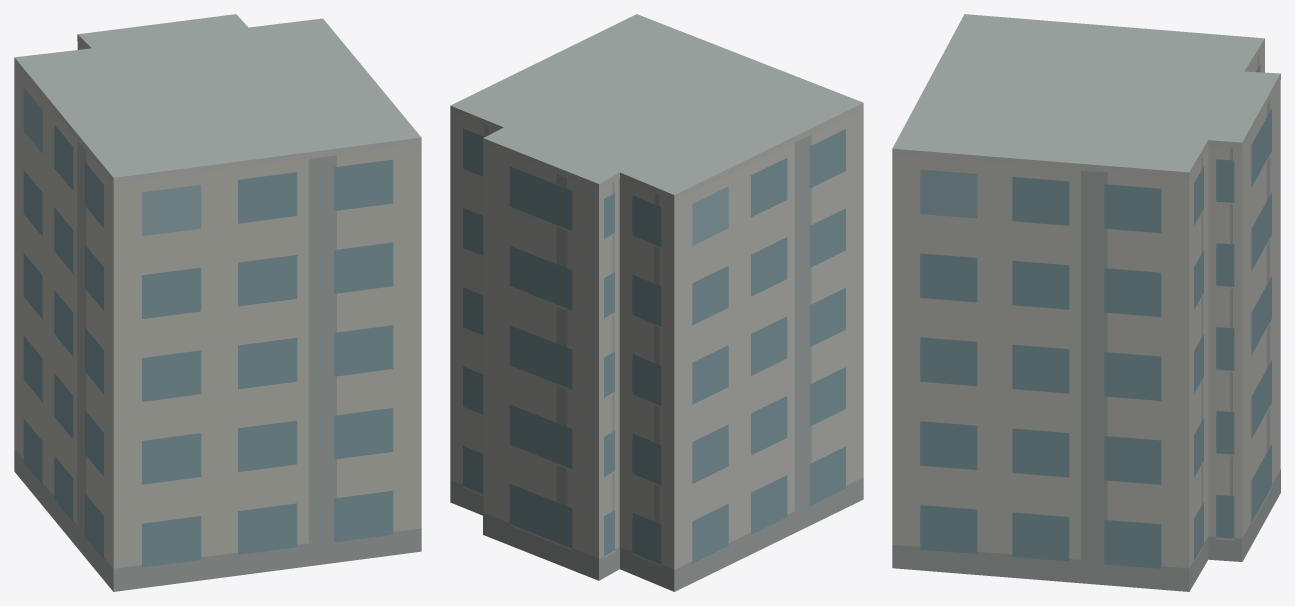
The model's file is survey-upis-32977926.glb.
3 views of the same model, side by side, from view 1: azimuth 30°, elevation 25°; view 2: azimuth 150°, elevation 25°; view 3: azimuth 270°, elevation 25° (orthographic). The views are drawn at different scales.
Visible parts, largest first — view 1: survey-upis-32977926.tmp; view 2: survey-upis-32977926.tmp; view 3: survey-upis-32977926.tmp.
Boxes of the visible parts, x1,y1,x2,y2 form: survey-upis-32977926.tmp: (14,14,421,591); survey-upis-32977926.tmp: (450,14,863,591); survey-upis-32977926.tmp: (892,14,1280,591).
Size of the model in its own units: 12.36 by 15.25 by 12.81.
